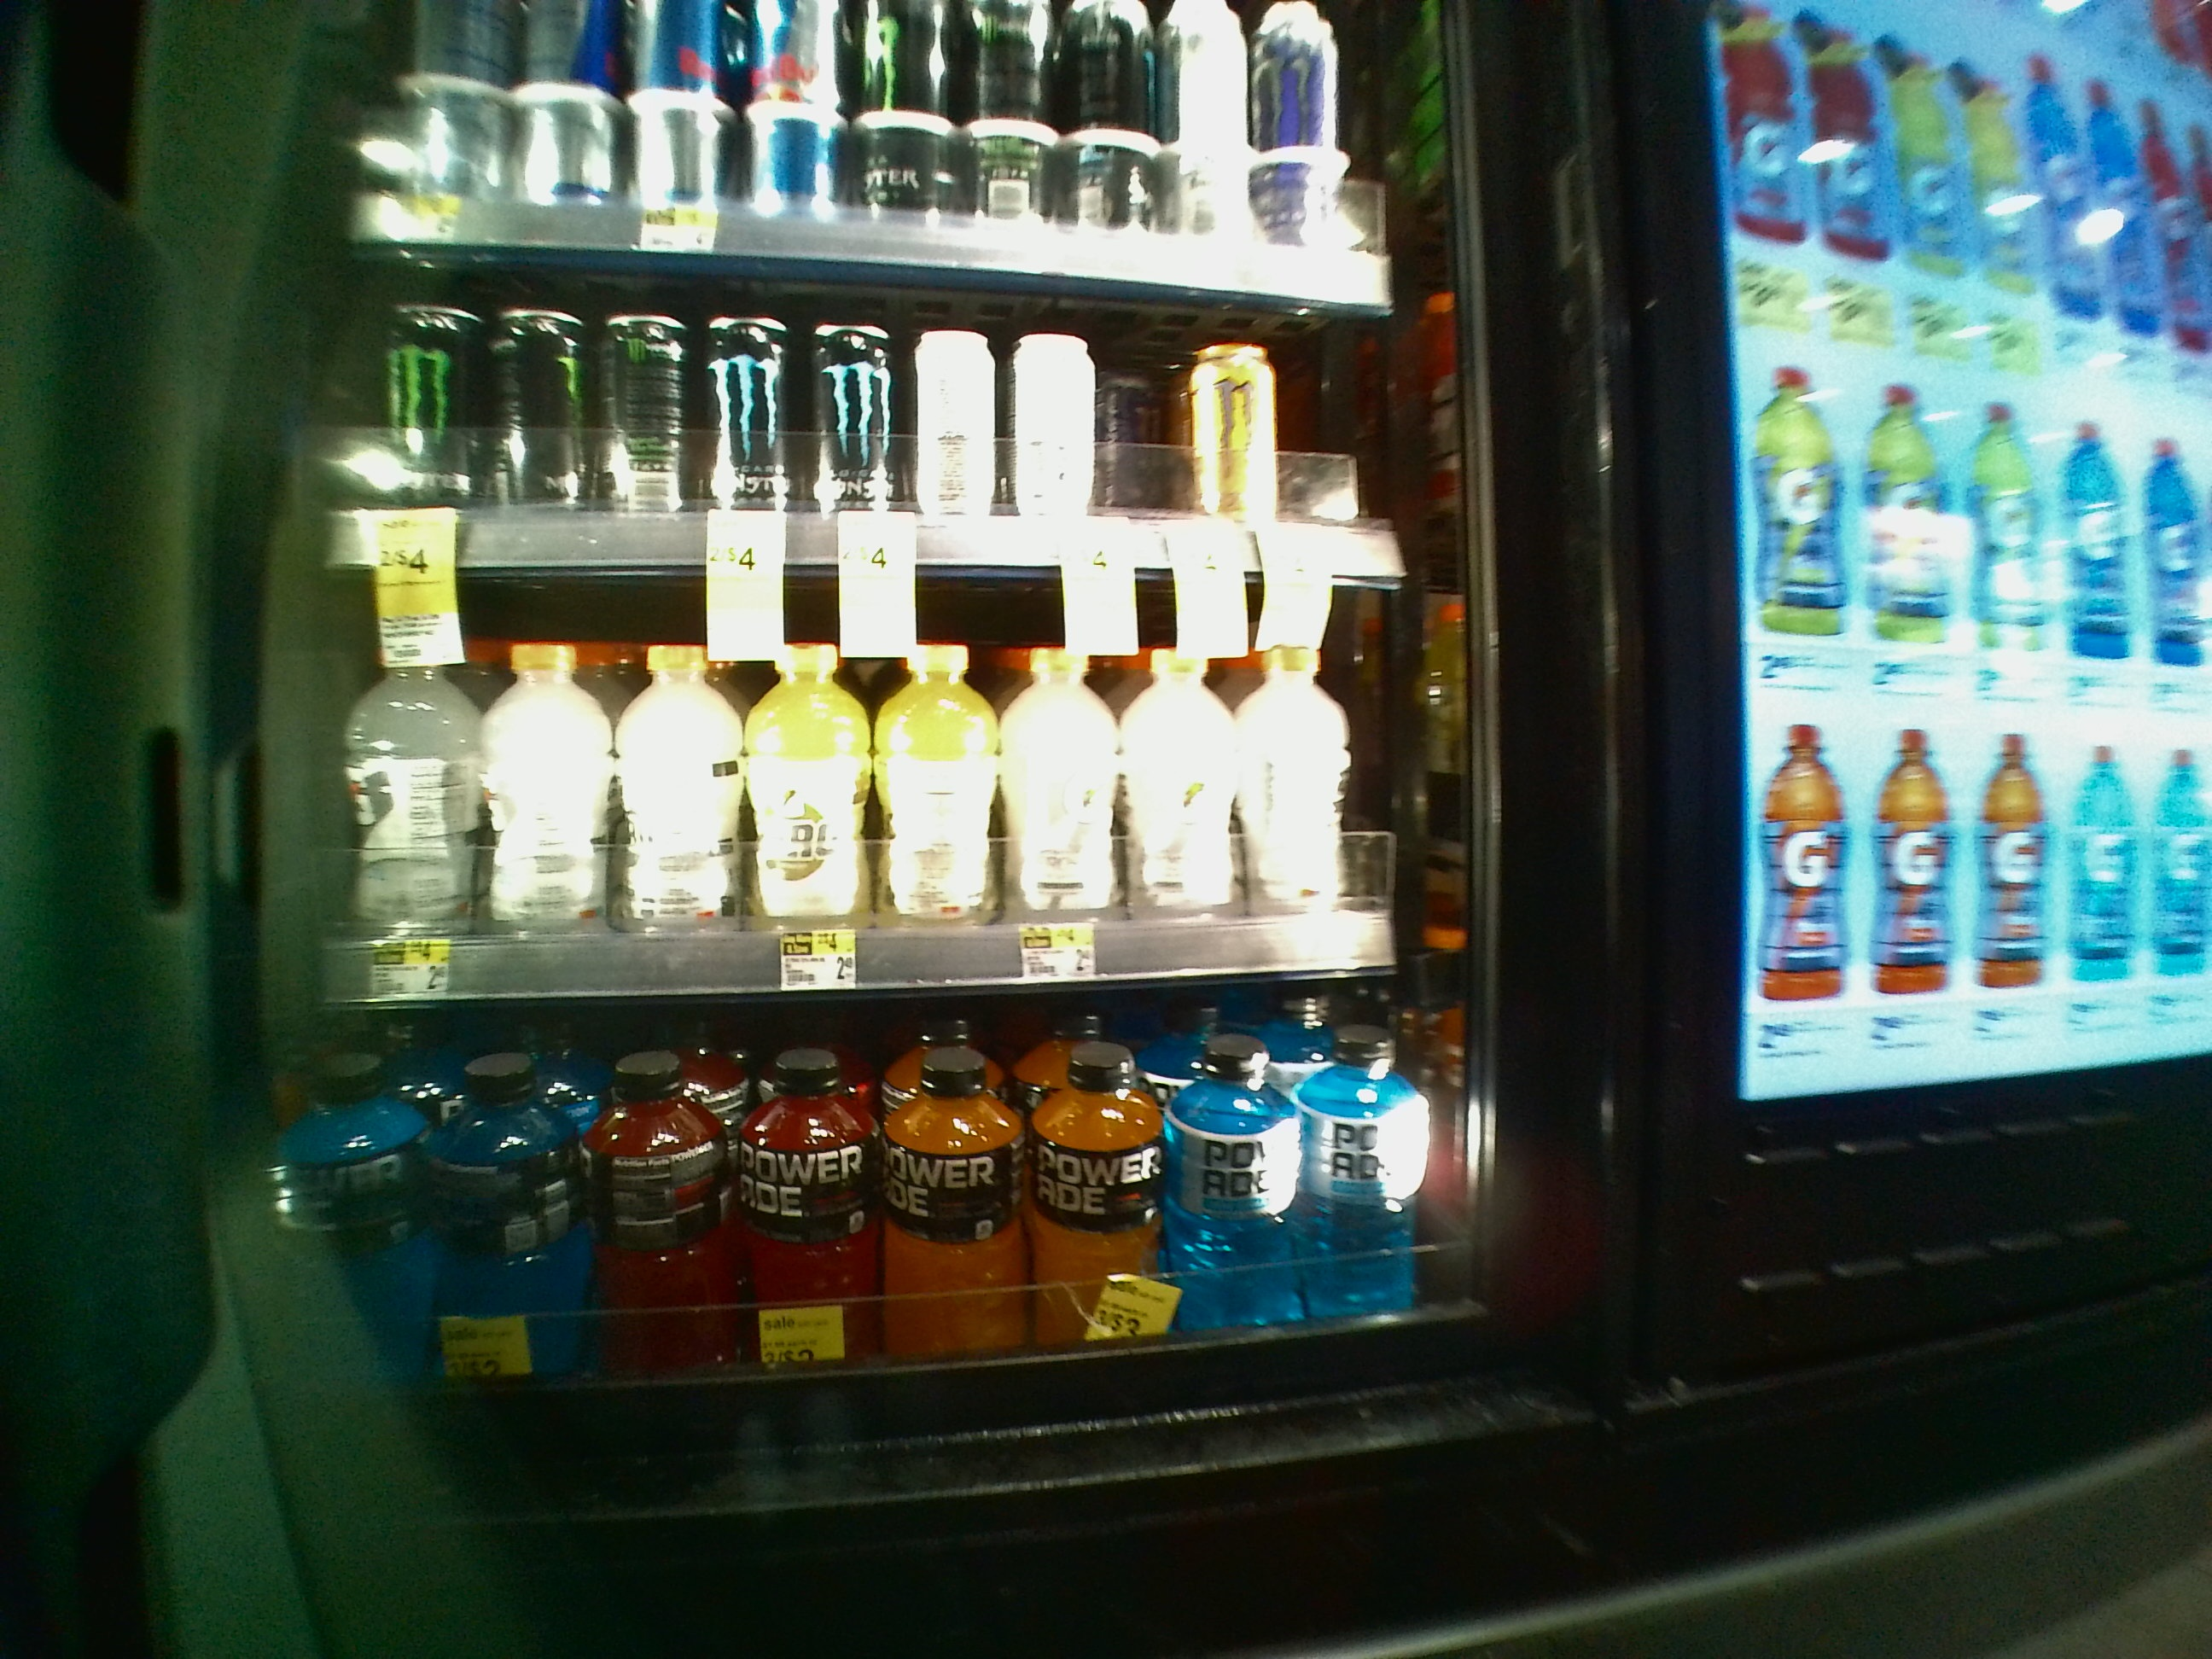shelf: (240, 545, 1500, 985), (230, 983, 1507, 1378), (256, 237, 1489, 573)
